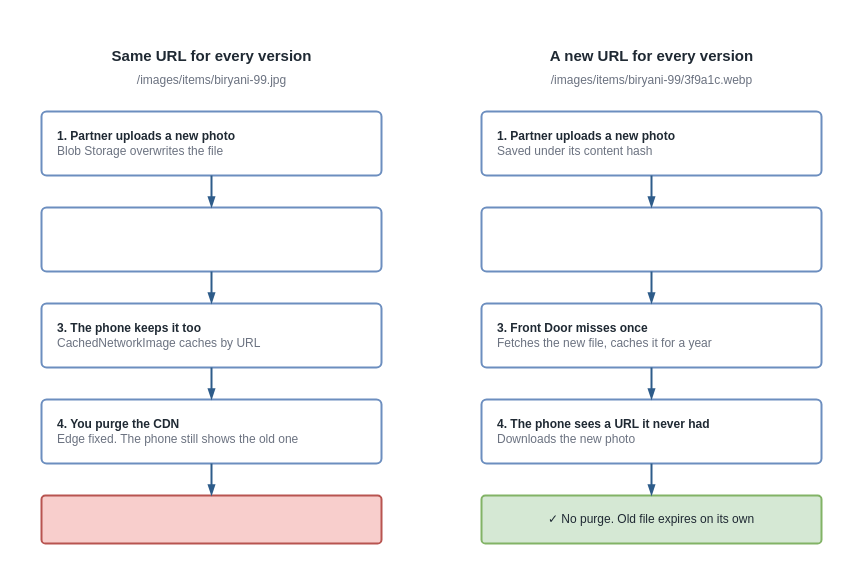
Image size: 862x584. Some labels were removed from this diagram. The centre of each missing label's shape, as x and y in pixels:
2. Front Door keeps the old copy Until its 7-day TTL runs out: the point at 211,239
2. Item JSON gets the new URL Redis key deleted, like a price change: the point at 651,239
✗ Two caches you cannot both reach: the point at 211,519
